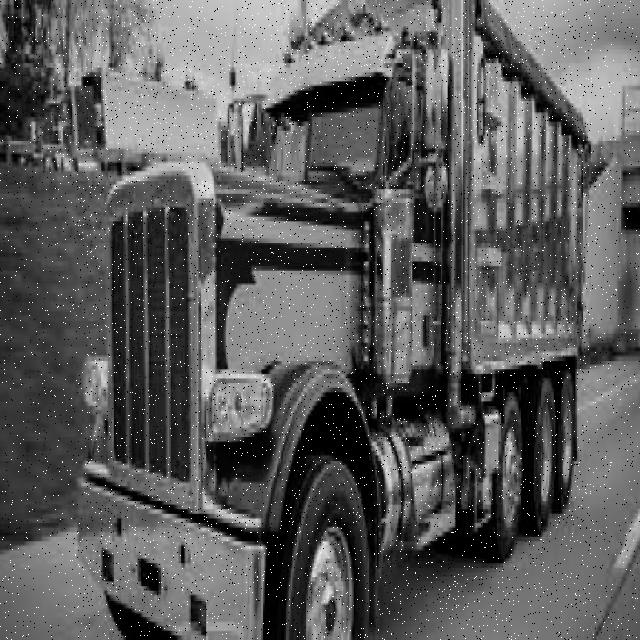Box Truck: (77, 0, 593, 640)
